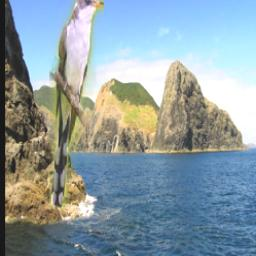Cuckoo: (50, 0, 105, 211)
